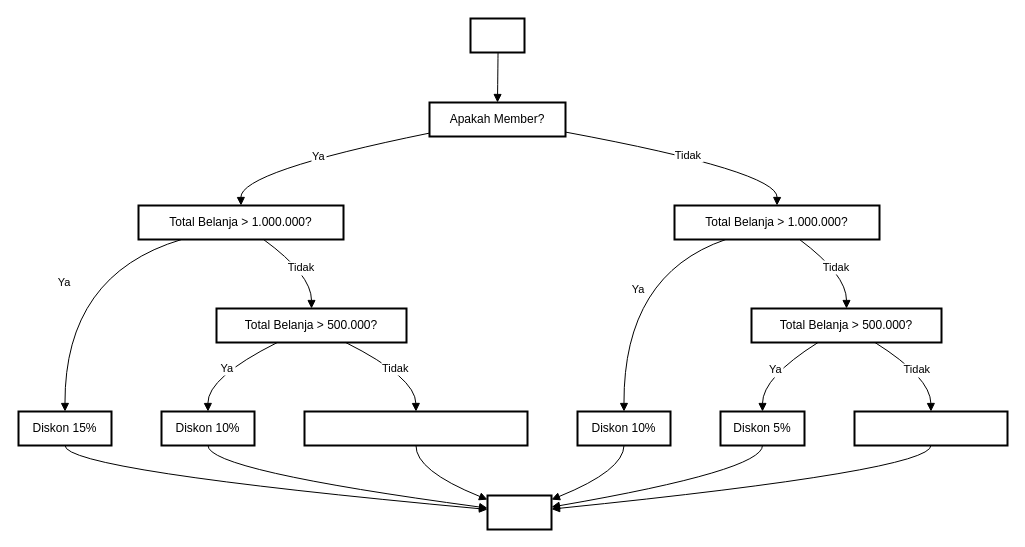
Image size: 1025x547. Some labels were removed from this diagram. The shapes that lost their labels are listed below. From the top down, each one's box as (x1, y1, x2, y2) in pixels, then its label:
(469, 17, 525, 53): Mulai
(303, 410, 528, 446): Hanya Potongan Member 10%
(853, 410, 1008, 446): Tidak Dapat Diskon
(486, 494, 552, 530): Selesai
